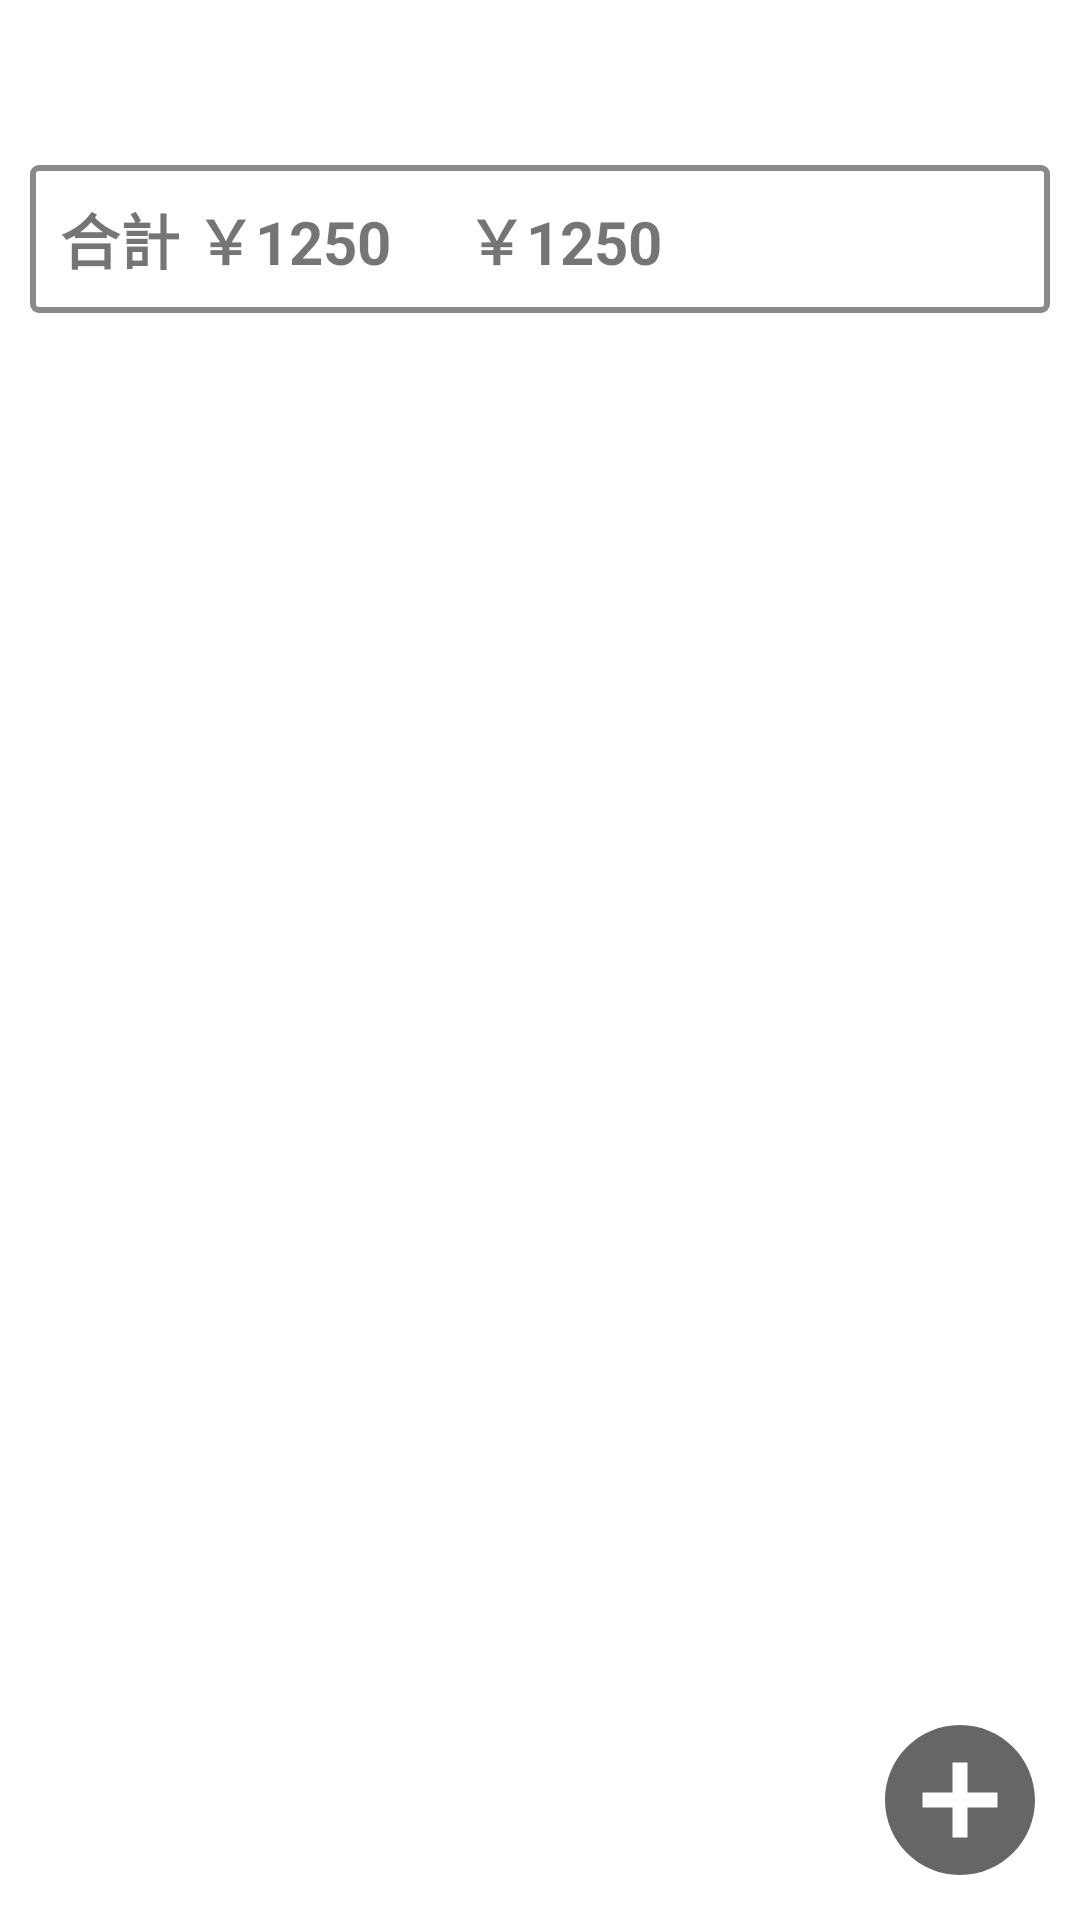

Point at icon controls on the screen. Image size 1080w x 1920h, points as (x,y).
add circle: (960,1800)
